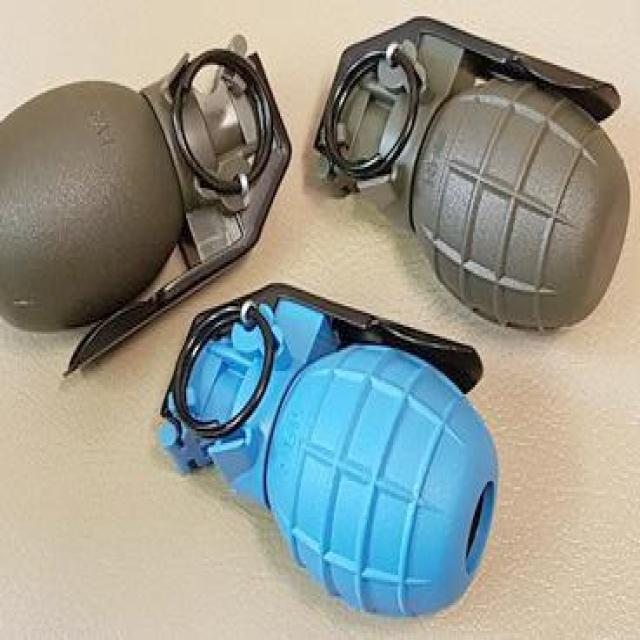grenade: (154, 284, 502, 622), (1, 31, 297, 384), (312, 19, 634, 332)
